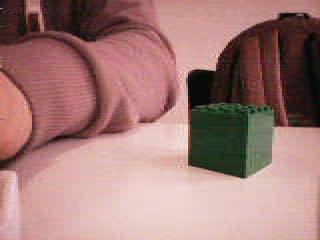legocube: (186, 101, 276, 180)
